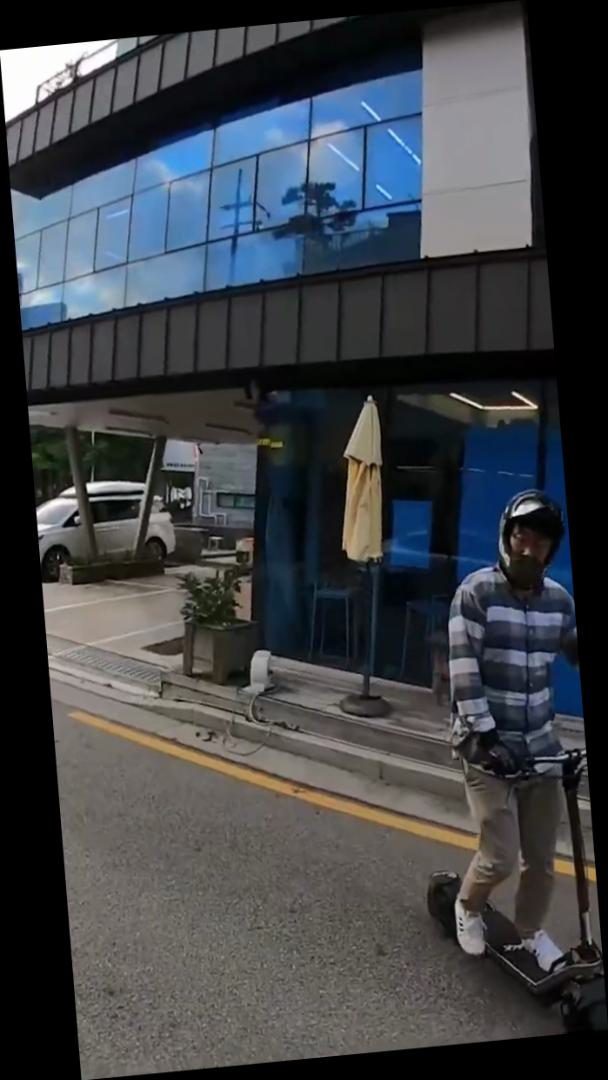helmet: (391, 480, 607, 1046)
